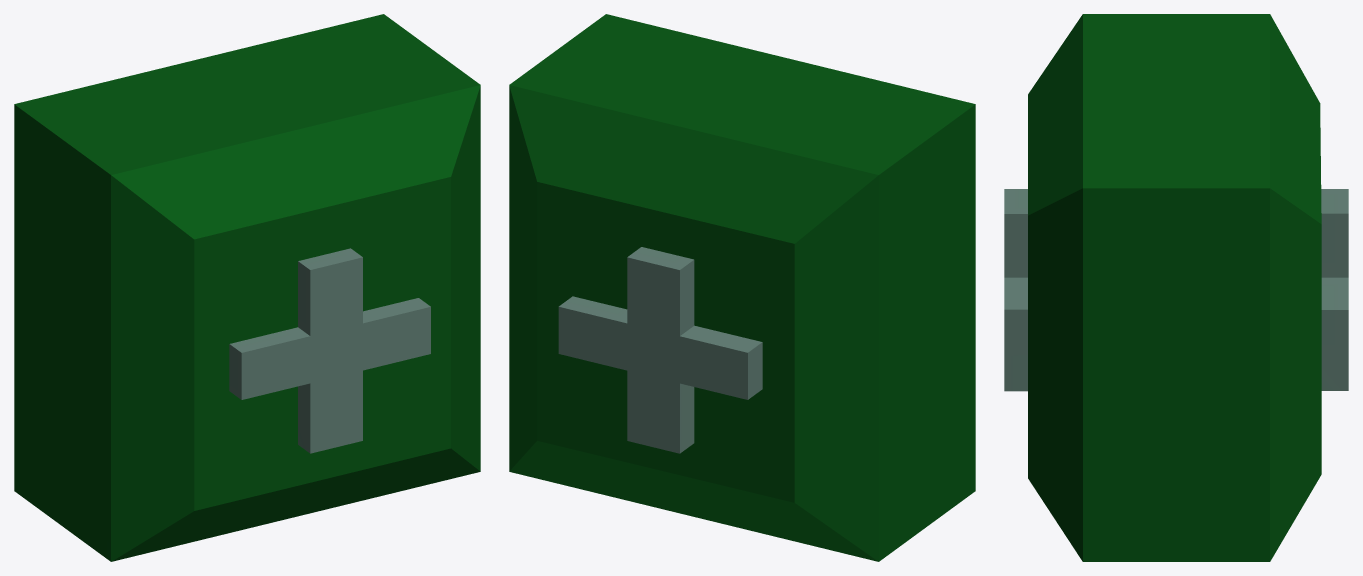
Rendered from PowerupCura.fbx.
3 renders of one model, left to right at view 1: azimuth 30°, elevation 25°; view 2: azimuth 150°, elevation 25°; view 3: azimuth 270°, elevation 25°, orthographic. The views are drawn at different scales.
Visible parts, largest first — view 1: HealingItem; view 2: HealingItem; view 3: HealingItem.
Part boxes in pixels (left/top/right/bottom): HealingItem: left=14, top=14, right=480, bottom=561; HealingItem: left=509, top=14, right=975, bottom=561; HealingItem: left=1004, top=14, right=1348, bottom=561.
Bounding box in the file's own units: 11.42 × 11.42 × 9.54.
